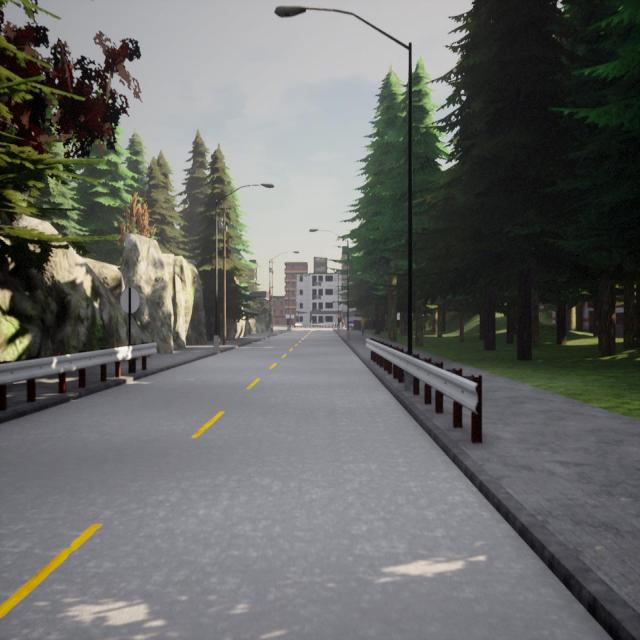Pedestrian: (360, 314, 366, 336), (341, 317, 345, 330)
Traffic_Signs: (120, 287, 140, 314), (286, 314, 290, 319), (290, 315, 294, 319)
Vehicle: (349, 319, 354, 324)
